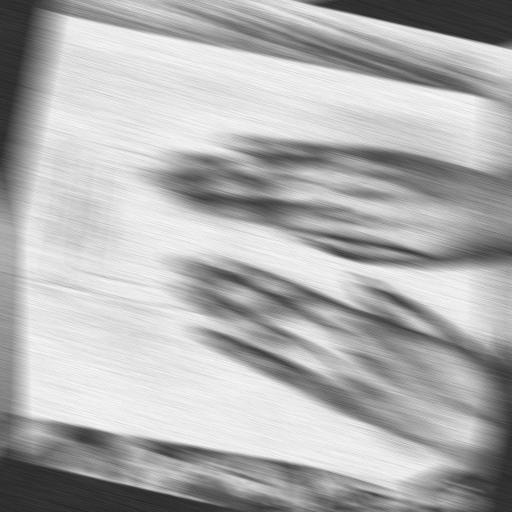bottom_left: (461, 482, 485, 494)
bottom_right: (479, 92, 502, 102)
mobile: (3, 123, 471, 359)
